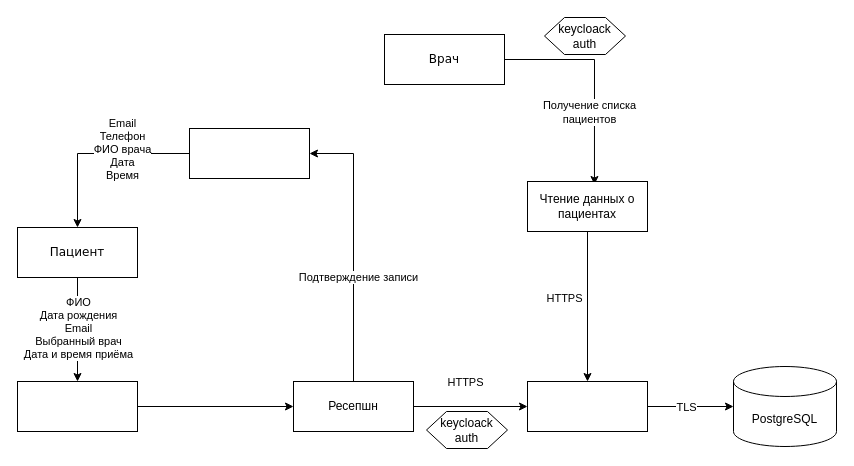
This 854x466 diagram has some shape labels left out. Each missing label, with the centre of its shape:
"Запись" goes at point (77, 406).
"Корпоративный портал" goes at point (587, 406).
"Оповещение пациента" goes at point (249, 153).
